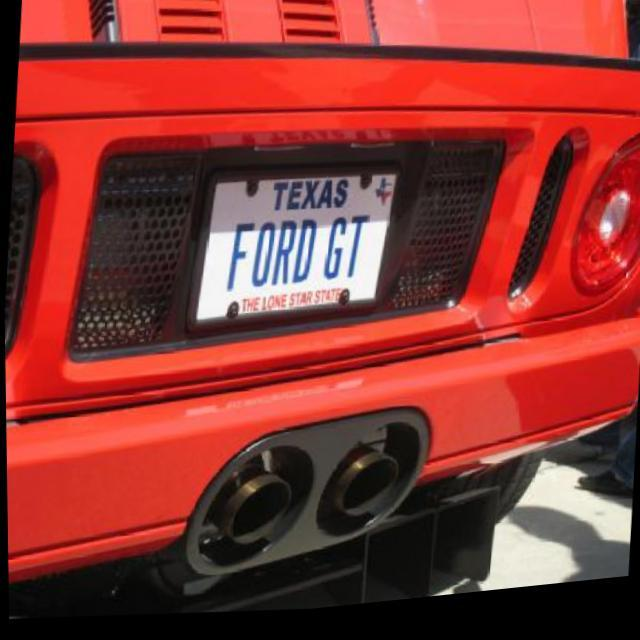license_plate: (184, 164, 405, 352)
